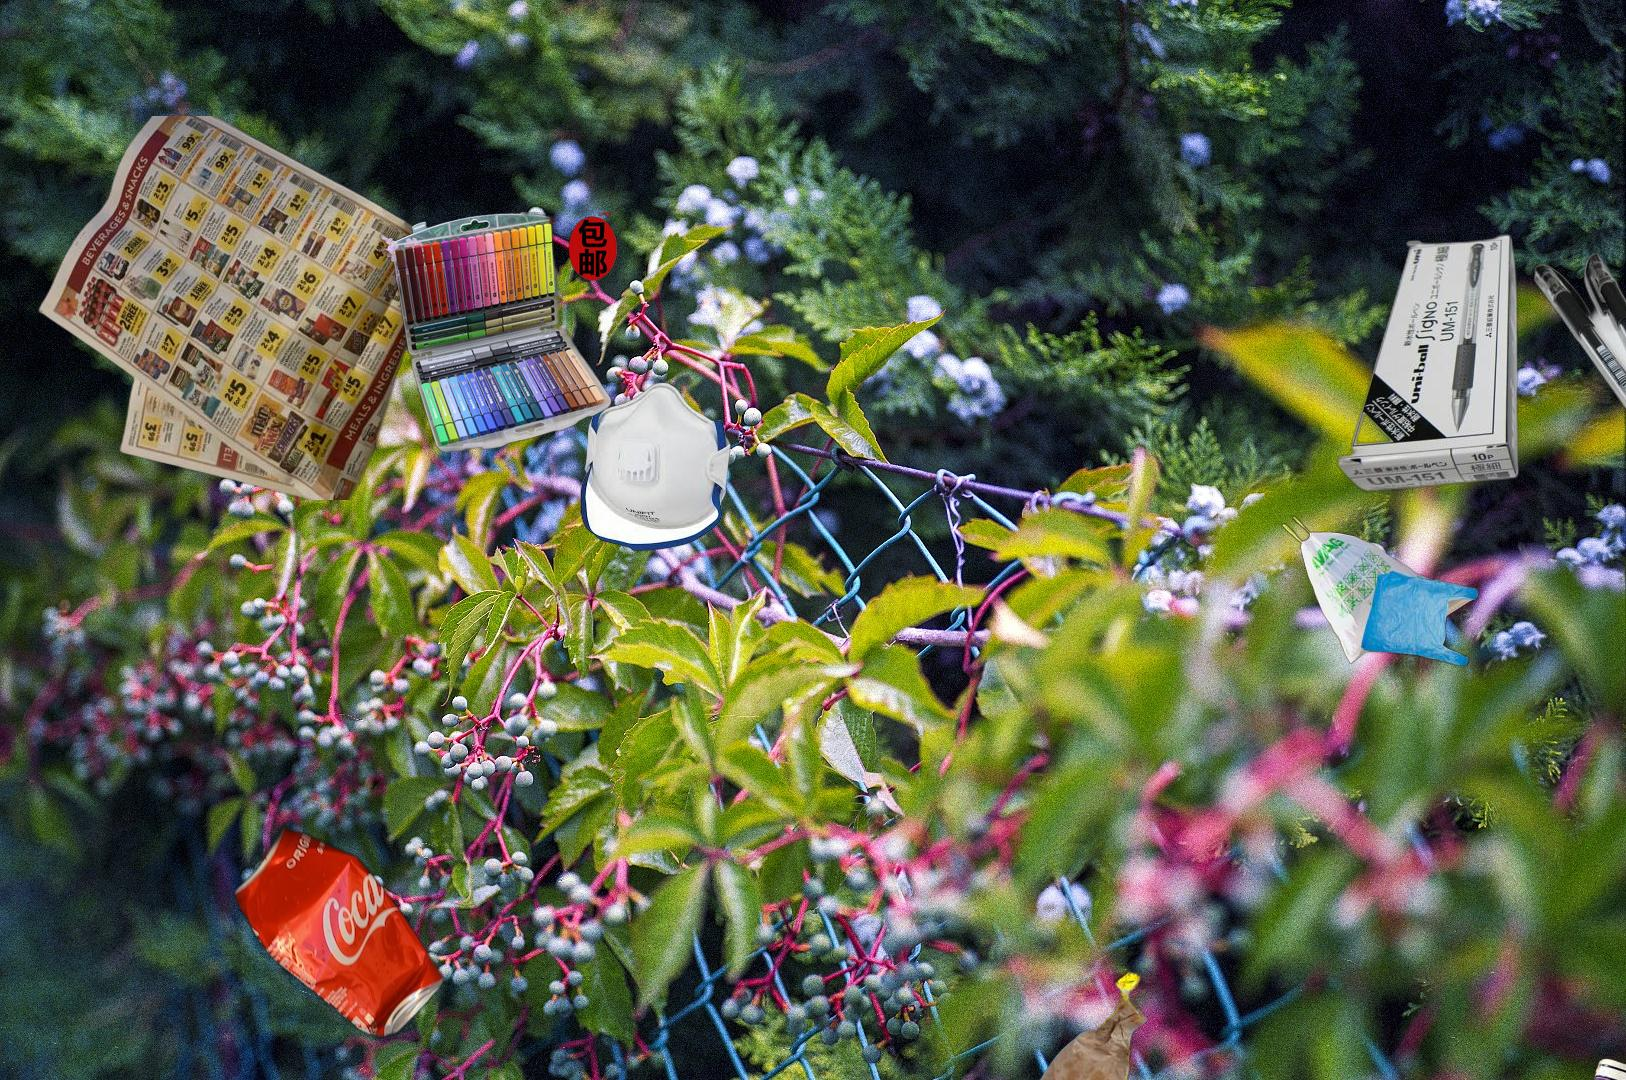metal-cans: (229, 821, 450, 1044)
paper: (34, 116, 444, 500)
paper-bag: (1025, 958, 1154, 1080)
penholder: (1334, 231, 1626, 495), (378, 212, 618, 452)
plastic-bag: (1279, 513, 1481, 669)
shoes: (1571, 1055, 1626, 1080)
trash: (579, 380, 734, 554)
